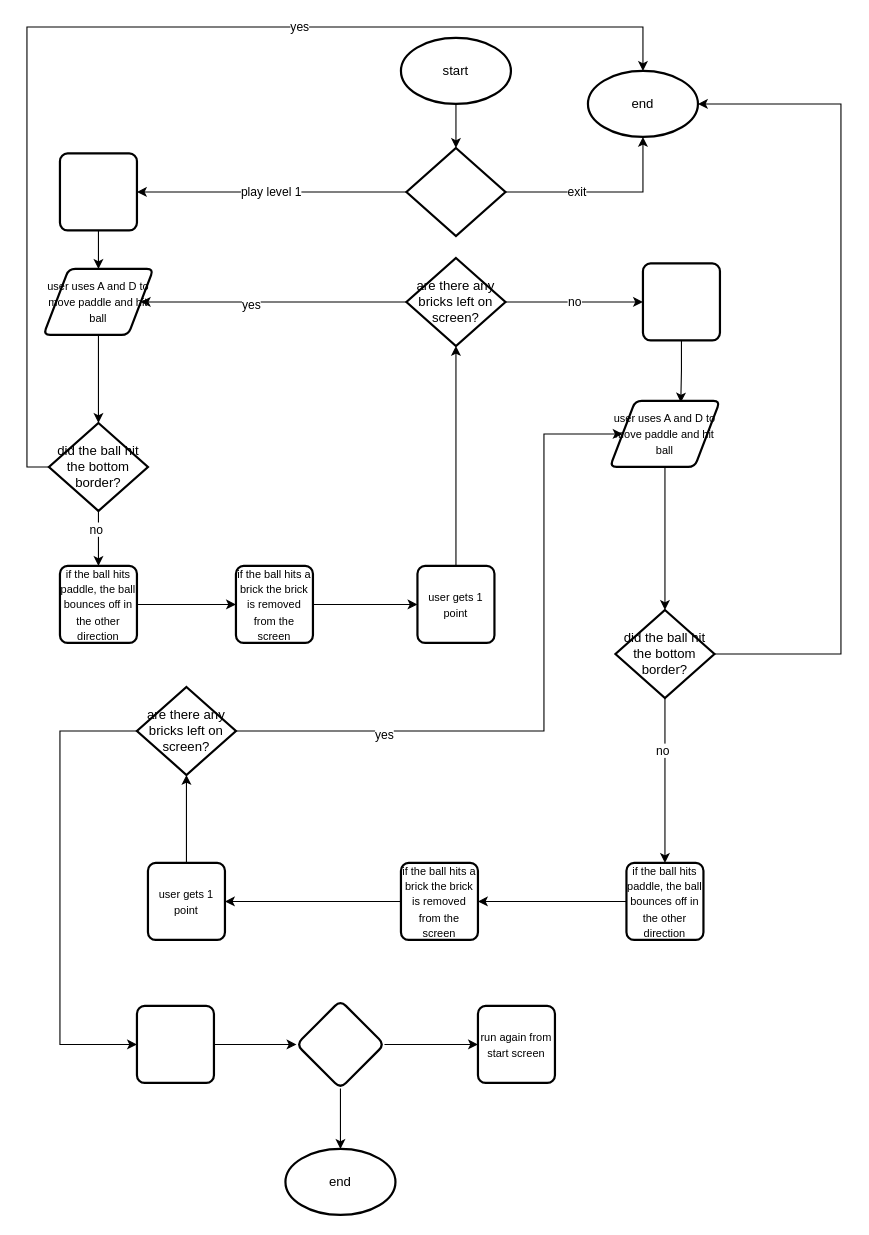
This 869x1235 diagram has some shape labels left out. Here are the shapes that lost their labels. From the top down, the centre of each, then its label:
At point 98,191: "display level 1 and begin ball movement".
At point 455,191: "start screen".
At point 681,301: "display level 2".
At point 175,1044: "display end screen".
At point 340,1044: "play again?".
